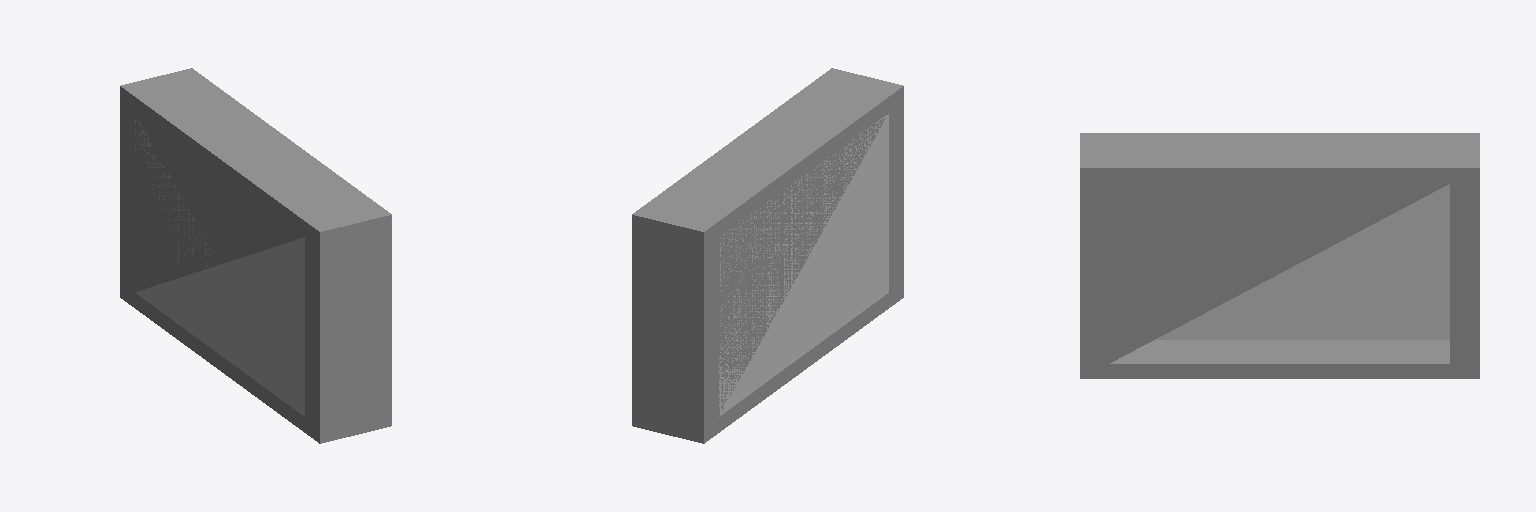
File: window4.obj
3 views of the same model, side by side, from view 1: azimuth 30°, elevation 25°; view 2: azimuth 150°, elevation 25°; view 3: azimuth 270°, elevation 25° (orthographic).
Visible parts, largest first — view 1: window_Cube, interior_Cube.001; view 2: window_Cube, interior_Cube.001; view 3: window_Cube, interior_Cube.001.
Boxes of the visible parts, x1=… form: window_Cube: x1=120, y1=68, x2=391, y2=443; interior_Cube.001: x1=135, y1=114, x2=304, y2=416; window_Cube: x1=632, y1=68, x2=903, y2=443; interior_Cube.001: x1=719, y1=114, x2=888, y2=416; window_Cube: x1=1080, y1=133, x2=1479, y2=378; interior_Cube.001: x1=1155, y1=184, x2=1449, y2=339.
Bounding box in the file's own units: 0.3 × 0.84 × 1.44.